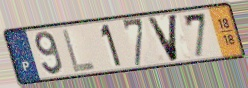1: (99, 23, 124, 68)
7: (121, 17, 147, 69), (182, 12, 210, 59)
9: (34, 30, 64, 76)
L: (60, 27, 98, 74)
V: (145, 13, 180, 64)
